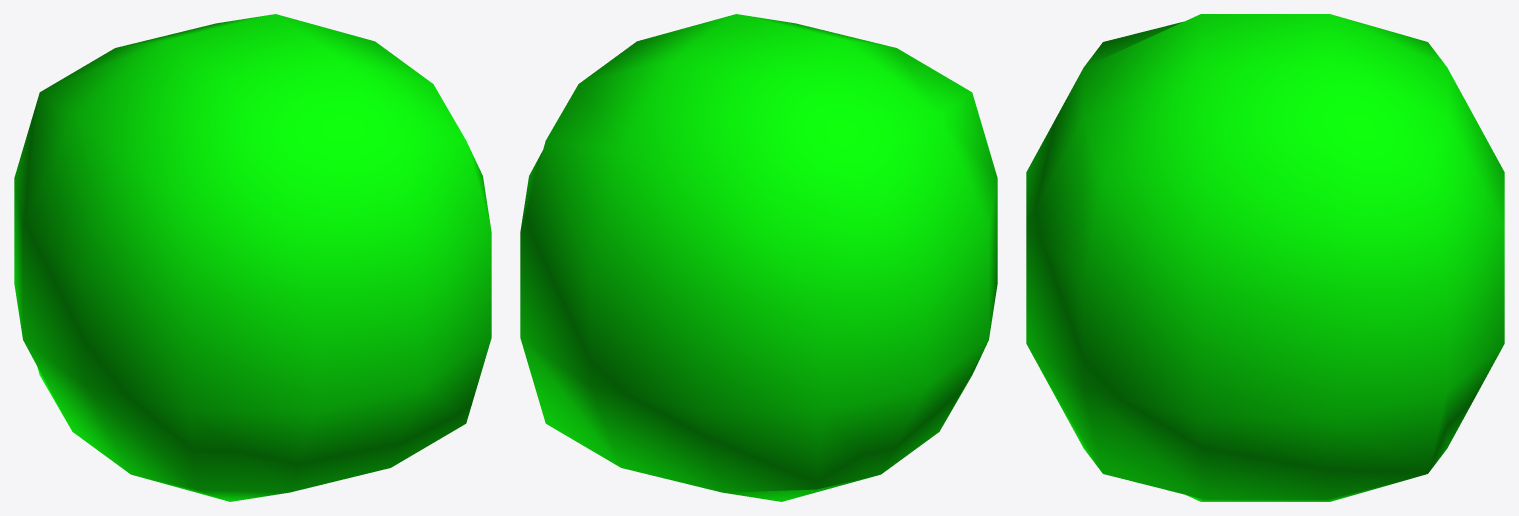
File: bullet.fbx
3 renders of one model, left to right at view 1: azimuth 30°, elevation 25°; view 2: azimuth 150°, elevation 25°; view 3: azimuth 270°, elevation 25°, orthographic. The views are drawn at different scales.
Parts seen in each view (by area): view 1: obj1; view 2: obj1; view 3: obj1.
Boxes of the visible parts, bbox=[...] form: obj1: bbox=[14, 14, 491, 501]; obj1: bbox=[520, 14, 997, 501]; obj1: bbox=[1026, 14, 1504, 501].
Bounding box in the file's own units: 29.57 × 29.57 × 29.57.
